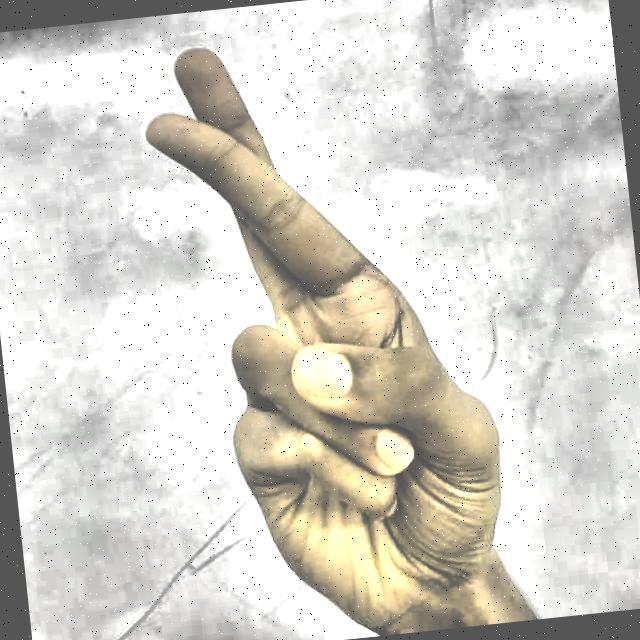Ra: (103, 9, 521, 640)
